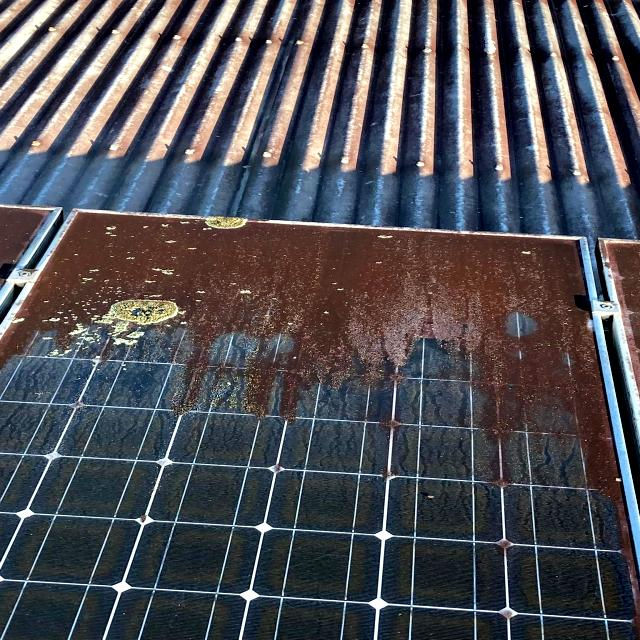dust: (376, 232, 600, 482), (188, 215, 356, 472), (41, 214, 178, 447)
